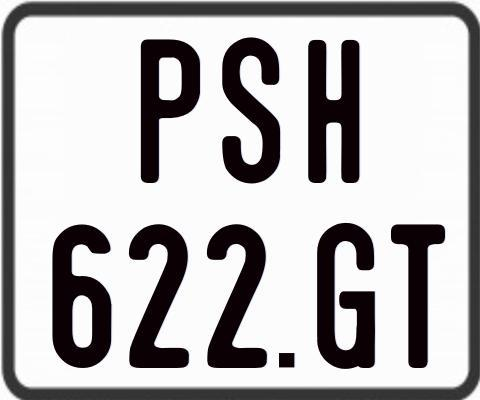2: (206, 224, 270, 374), (126, 221, 186, 367)
6: (52, 224, 115, 371)
G: (314, 223, 377, 375)
H: (308, 40, 364, 189)
P: (139, 38, 203, 184)
S: (221, 35, 281, 181)
T: (390, 221, 445, 368)
